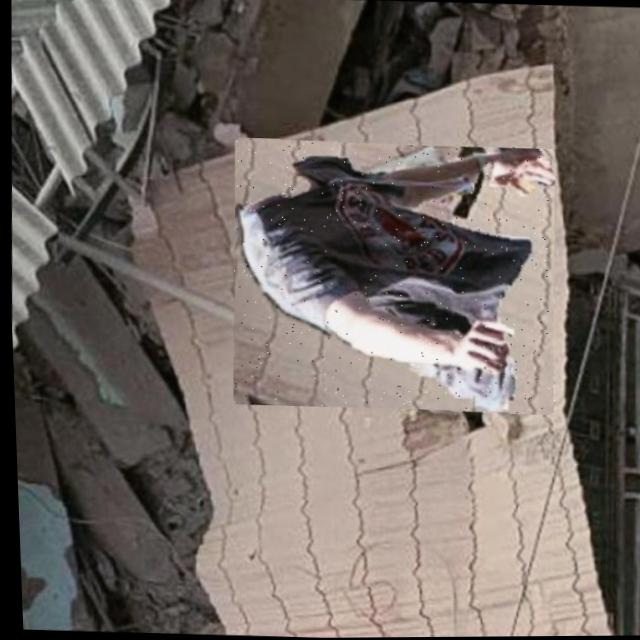Person in Rubble: (223, 136, 560, 415)
